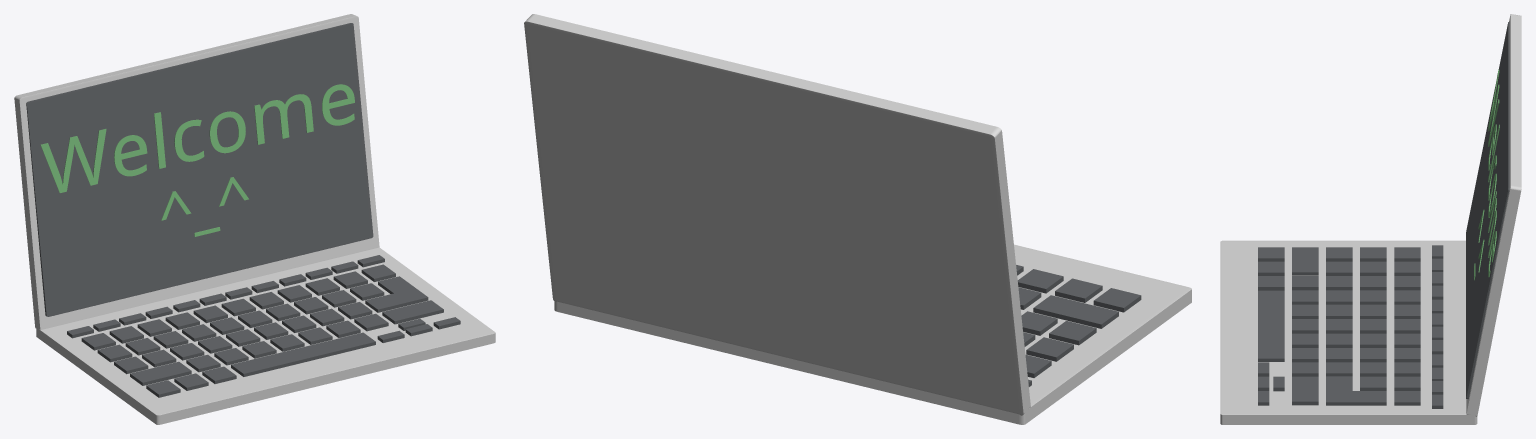
Rendered from laptop.glb.
The picture shows the model from 3 angles, left to right: view 1: azimuth 30°, elevation 25°; view 2: azimuth 150°, elevation 25°; view 3: azimuth 270°, elevation 25°; orthographic projection. The views are drawn at different scales.
Visible parts, largest first — view 1: Mesh_Mesh_head_geo.001_lambert2SG.001; view 2: Mesh_Mesh_head_geo.001_lambert2SG.001; view 3: Mesh_Mesh_head_geo.001_lambert2SG.001.
Part boxes in pixels (bbox=[...]): Mesh_Mesh_head_geo.001_lambert2SG.001: bbox=[14, 14, 495, 424]; Mesh_Mesh_head_geo.001_lambert2SG.001: bbox=[524, 14, 1191, 424]; Mesh_Mesh_head_geo.001_lambert2SG.001: bbox=[1220, 14, 1521, 424].
Size of the model in its own units: 109 by 69.48 by 79.74.
